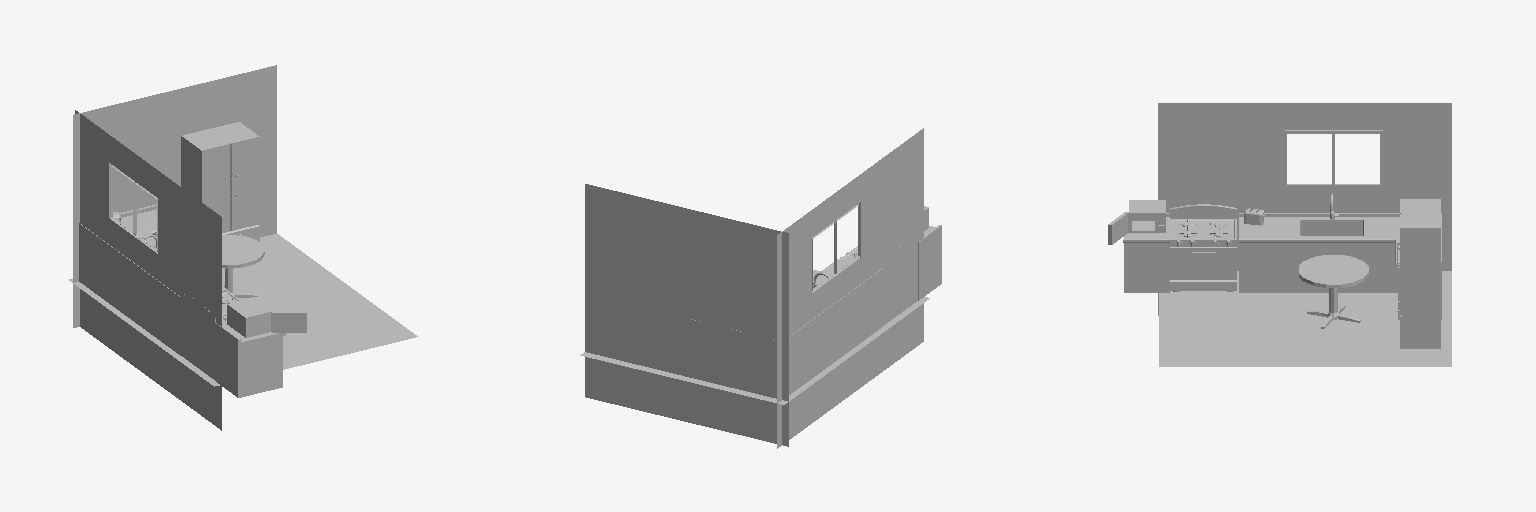
File: kitchenmap2.obj
3 views of the same model, side by side, from view 1: azimuth 30°, elevation 25°; view 2: azimuth 150°, elevation 25°; view 3: azimuth 270°, elevation 25° (orthographic).
Parts seen in each view (by area): view 1: Left_Wall, Right_Wall, Floor, Fridge, Counter_Corner, Counter_Left, Oven, Table, Microwave, Microwave_Door; view 2: Right_Wall, Left_Wall, Counter_Corner, Oven, Floor, Counter_Left; view 3: Left_Wall, Floor, Counter_Corner, Fridge, Oven, Counter_Left, Table, Microwave.
Boxes of the visible parts, x1,y1,x2,y2 form: Left_Wall: [75, 110, 221, 430]; Right_Wall: [73, 65, 276, 327]; Floor: [69, 234, 417, 386]; Fridge: [181, 122, 259, 241]; Counter_Corner: [79, 204, 228, 355]; Counter_Left: [215, 323, 286, 397]; Oven: [182, 291, 241, 377]; Table: [222, 235, 264, 297]; Microwave: [227, 298, 271, 337]; Microwave_Door: [271, 312, 306, 332]; Right_Wall: [585, 184, 788, 446]; Left_Wall: [777, 128, 923, 448]; Counter_Corner: [682, 259, 883, 399]; Oven: [839, 238, 917, 321]; Floor: [580, 270, 929, 404]; Counter_Left: [918, 225, 941, 300]; Left_Wall: [1158, 103, 1451, 315]; Floor: [1159, 271, 1451, 366]; Counter_Corner: [1239, 213, 1441, 319]; Fridge: [1400, 199, 1440, 348]; Oven: [1170, 204, 1236, 291]; Counter_Left: [1123, 213, 1169, 292]; Table: [1299, 255, 1368, 328]; Microwave: [1129, 200, 1165, 232].
Bounding box in the file's own units: 56.58 × 56.61 × 82.34.